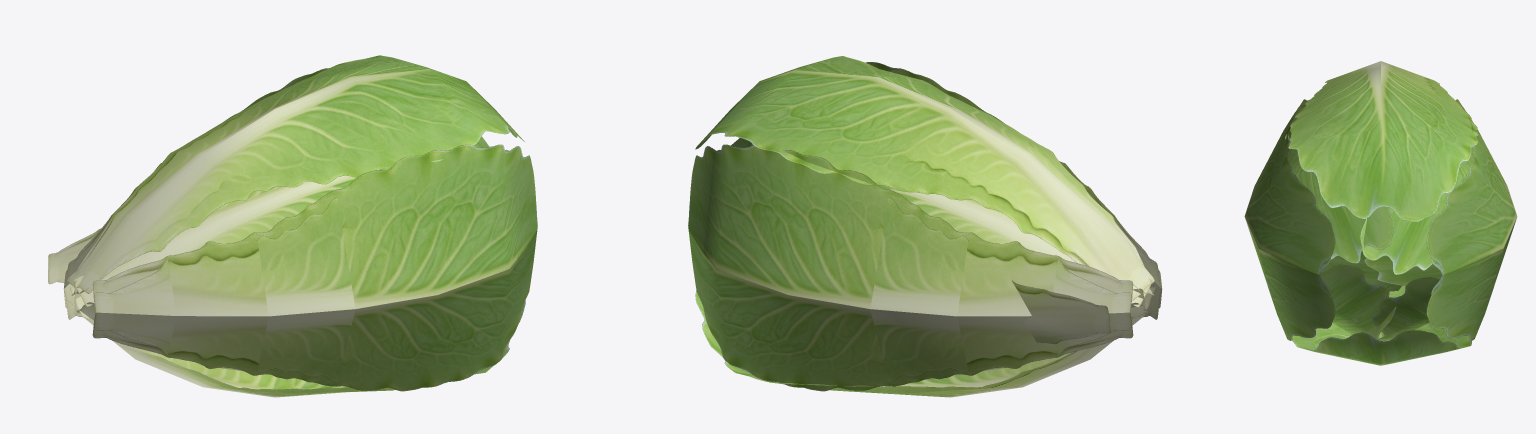
File: marul.fbx
The picture shows the model from 3 angles, left to right: view 1: azimuth 30°, elevation 25°; view 2: azimuth 150°, elevation 25°; view 3: azimuth 270°, elevation 25°; orthographic projection. The views are drawn at different scales.
Parts seen in each view (by area): view 1: marul; view 2: marul; view 3: marul.
Boxes of the visible parts, <box> form: marul: <box>48,55,537,397</box>; marul: <box>688,56,1162,397</box>; marul: <box>1244,61,1517,365</box>.
Bounding box in the file's own units: 52.83 × 38.48 × 35.24.
1 material, 1 textured.
